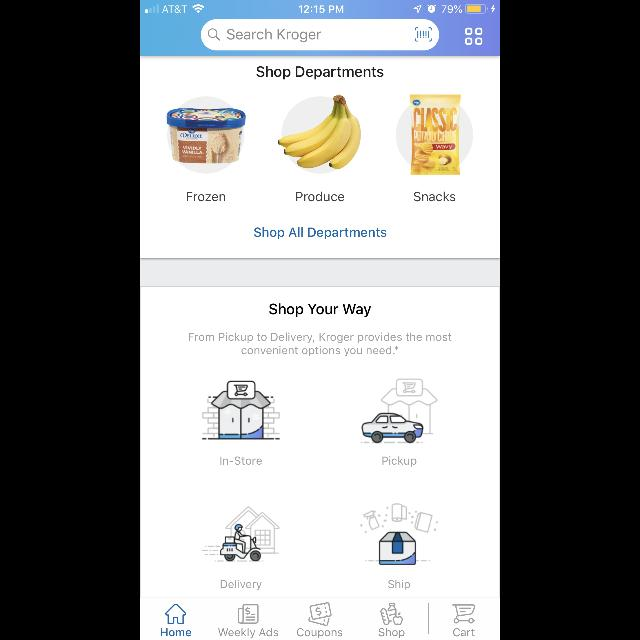icon: (308, 602, 332, 626), (450, 603, 476, 623), (166, 604, 187, 624), (238, 604, 258, 624), (465, 27, 483, 45), (208, 29, 220, 41)
image: (278, 94, 362, 174), (396, 94, 472, 176), (167, 96, 246, 174), (360, 378, 438, 444), (360, 503, 438, 565), (202, 380, 280, 440), (202, 506, 280, 562), (381, 602, 404, 626), (414, 28, 432, 42)
input: (201, 20, 439, 50)
text: (188, 332, 452, 356), (256, 66, 384, 80), (254, 227, 386, 239), (269, 303, 371, 317), (227, 29, 321, 43), (218, 628, 278, 638), (296, 192, 344, 202), (297, 628, 343, 638), (413, 192, 455, 202), (220, 580, 262, 590), (187, 192, 226, 202), (382, 457, 416, 468), (220, 457, 262, 465), (379, 628, 405, 638), (161, 628, 191, 636), (388, 580, 410, 590), (451, 628, 475, 636)
uppertaskbar: (140, 0, 500, 14)
